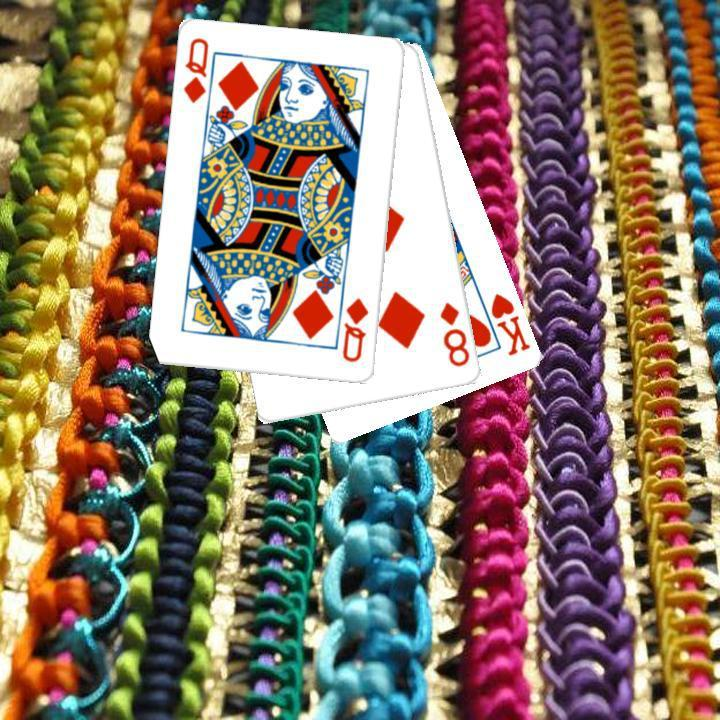8: (436, 298, 472, 369)
K: (486, 289, 533, 358)
Q: (338, 294, 371, 365), (179, 34, 211, 106)
